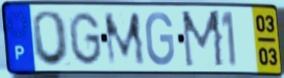1: (220, 9, 238, 69)
G: (67, 10, 104, 67), (144, 10, 176, 68)
M: (180, 9, 227, 70), (101, 10, 148, 68)
O: (31, 9, 72, 68)
